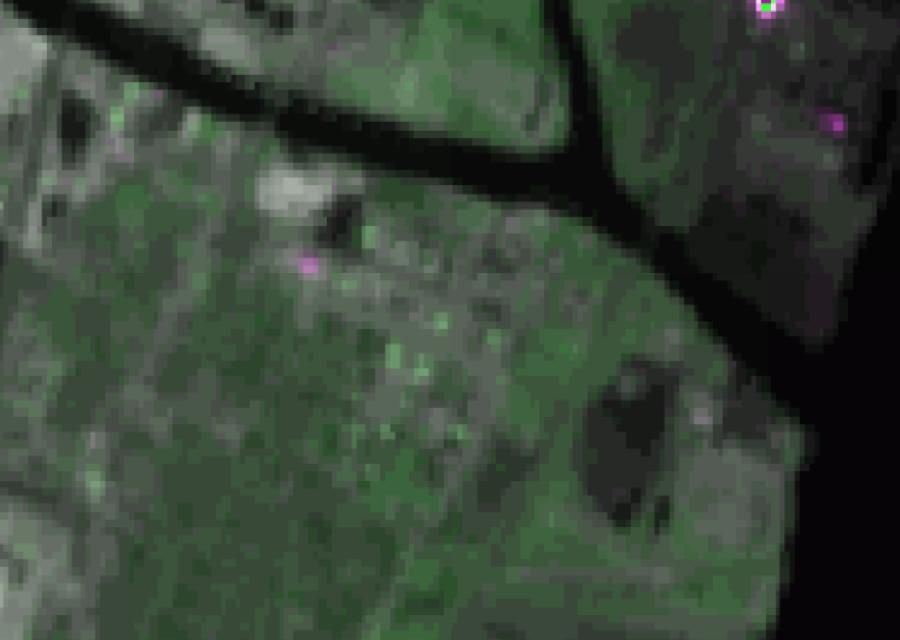Potential Lime Manufacturing Facility: (754, 0, 782, 20), (299, 256, 320, 277), (829, 113, 847, 132)
